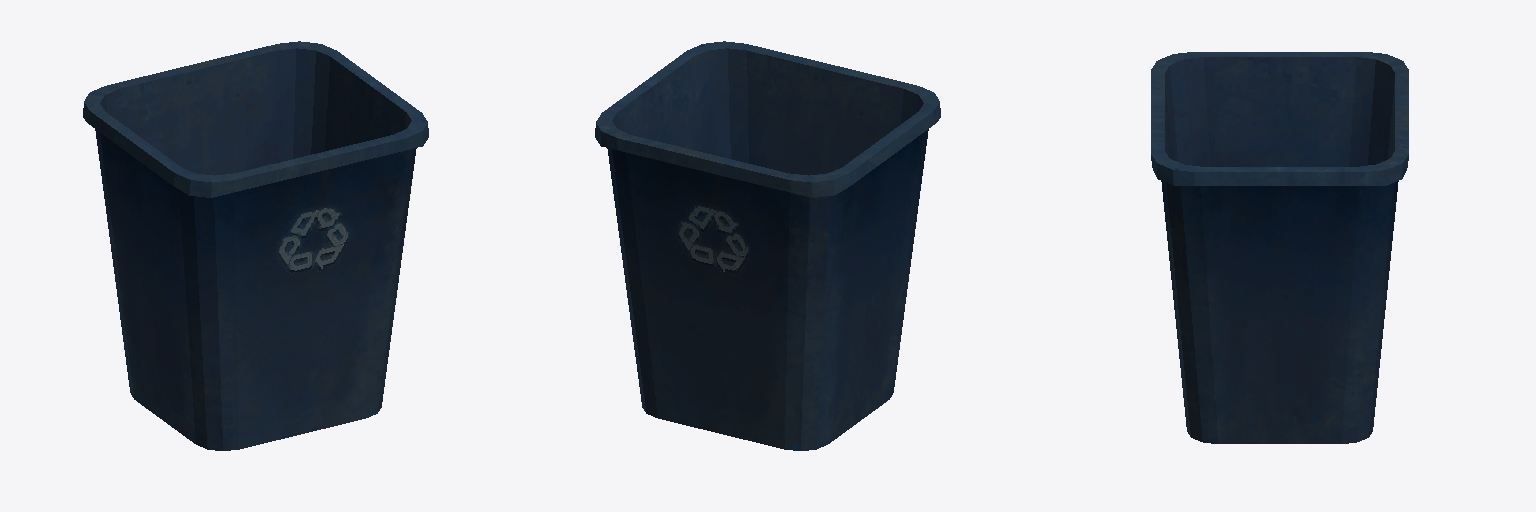
The picture shows the model from 3 angles: view 1: azimuth 30°, elevation 25°; view 2: azimuth 150°, elevation 25°; view 3: azimuth 270°, elevation 25°; orthographic projection.
Visible parts, largest first — view 1: Trash; view 2: Trash; view 3: Trash.
Boxes of the visible parts, <box> form: Trash: <box>83,41,428,450</box>; Trash: <box>595,41,940,450</box>; Trash: <box>1151,52,1408,443</box>.
Bounding box in the file's own units: 0.4585 × 0.5052 × 0.4097.
1 materials, 1 textured.